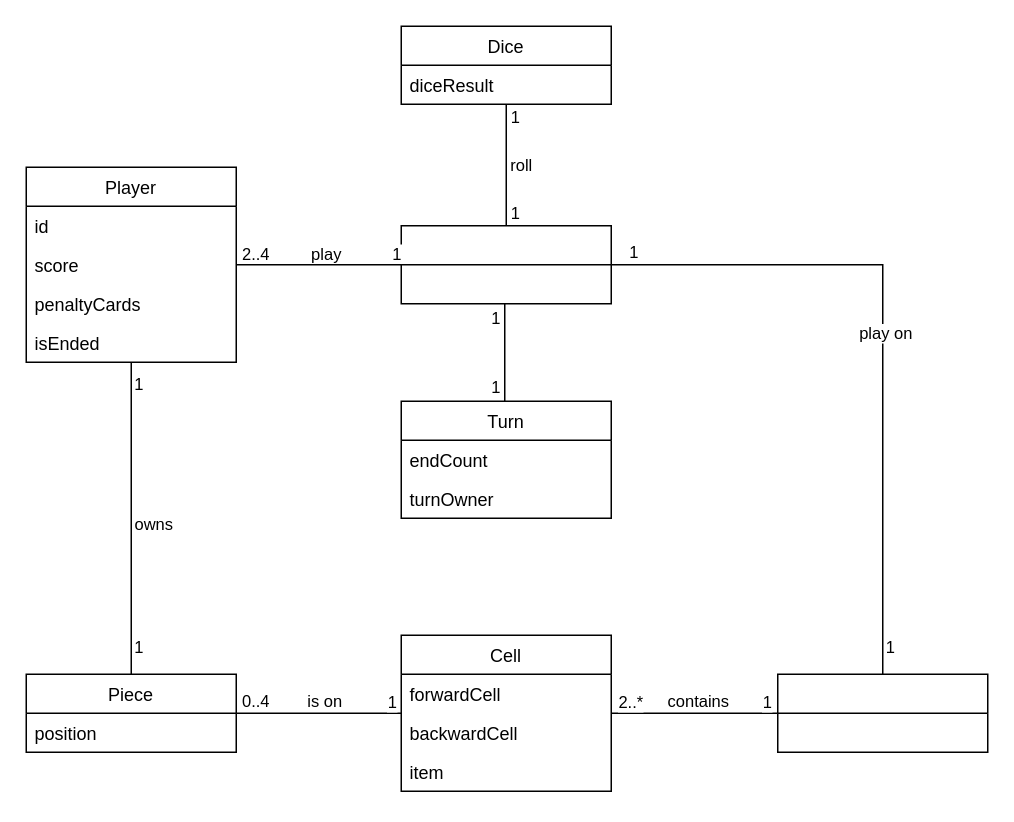
The diagram is 1014 pixels wide and 822 high, and some of its shapes have lost their labels. The centre of each missing label's shape, as x and y in pixels:
"BridgeMonopolyGame" belongs at [505,264].
"Map" belongs at [882,712].
